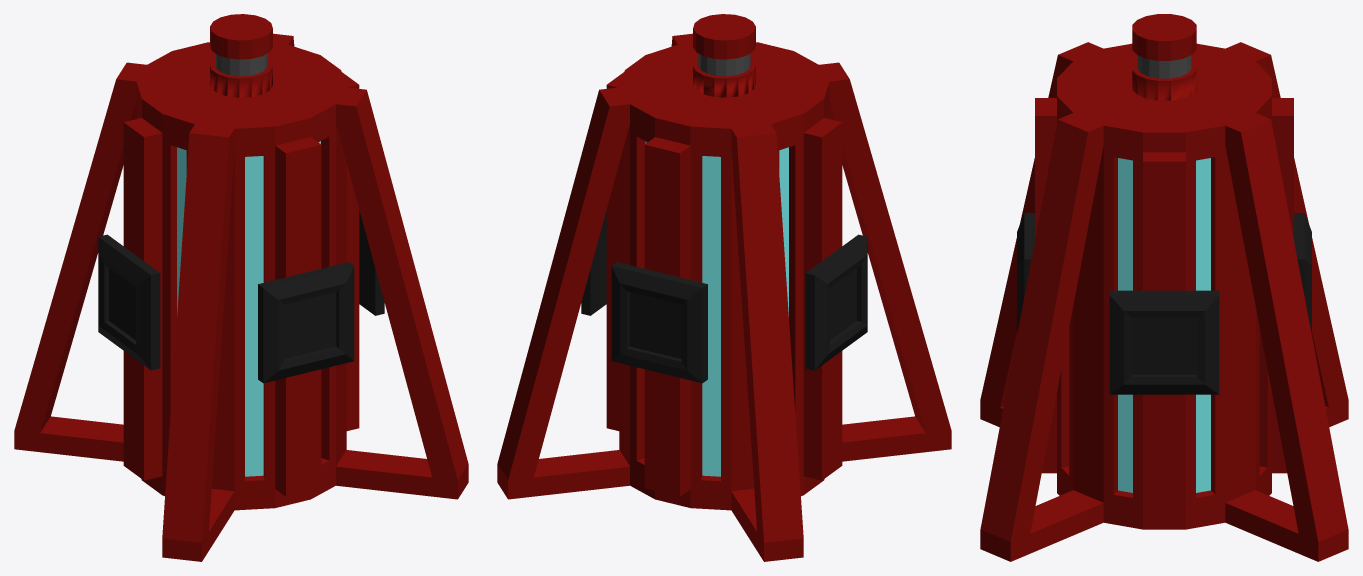
Rendered from power_generator.fbx.
3 views of the same model, side by side, from view 1: azimuth 30°, elevation 25°; view 2: azimuth 150°, elevation 25°; view 3: azimuth 270°, elevation 25° (orthographic). The views are drawn at different scales.
Parts seen in each view (by area): view 1: Generator_Frame_Cylinder.001, Cube.001, Power_Core_Cylinder.001, Cube.003, Post_Cylinder.001, Cube.004, Barrier_Status_Cylinder.001; view 2: Generator_Frame_Cylinder.001, Cube.002, Power_Core_Cylinder.001, Cube.003, Post_Cylinder.001, Cube.004, Barrier_Status_Cylinder.001; view 3: Generator_Frame_Cylinder.001, Cube.004, Power_Core_Cylinder.001, Post_Cylinder.001, Cube.001, Cube.002, Barrier_Status_Cylinder.001.
Boxes of the visible parts, bbox=[...] form: Generator_Frame_Cylinder.001: bbox=[14, 33, 468, 561]; Cube.001: bbox=[258, 262, 354, 383]; Power_Core_Cylinder.001: bbox=[177, 141, 320, 476]; Cube.003: bbox=[98, 234, 160, 370]; Post_Cylinder.001: bbox=[210, 14, 272, 97]; Cube.004: bbox=[359, 210, 384, 315]; Barrier_Status_Cylinder.001: bbox=[215, 53, 267, 76]; Generator_Frame_Cylinder.001: bbox=[497, 33, 951, 561]; Cube.002: bbox=[611, 262, 707, 383]; Power_Core_Cylinder.001: bbox=[645, 141, 788, 476]; Cube.003: bbox=[805, 234, 867, 370]; Post_Cylinder.001: bbox=[693, 14, 755, 97]; Cube.004: bbox=[581, 210, 606, 315]; Barrier_Status_Cylinder.001: bbox=[698, 53, 750, 76]; Generator_Frame_Cylinder.001: bbox=[980, 42, 1348, 561]; Cube.004: bbox=[1109, 290, 1219, 394]; Power_Core_Cylinder.001: bbox=[1118, 158, 1210, 492]; Post_Cylinder.001: bbox=[1132, 14, 1196, 100]; Cube.001: bbox=[1017, 213, 1034, 334]; Cube.002: bbox=[1294, 213, 1311, 334]; Barrier_Status_Cylinder.001: bbox=[1137, 55, 1191, 78].
Bounding box in the file's own units: 168 × 230 × 168.
